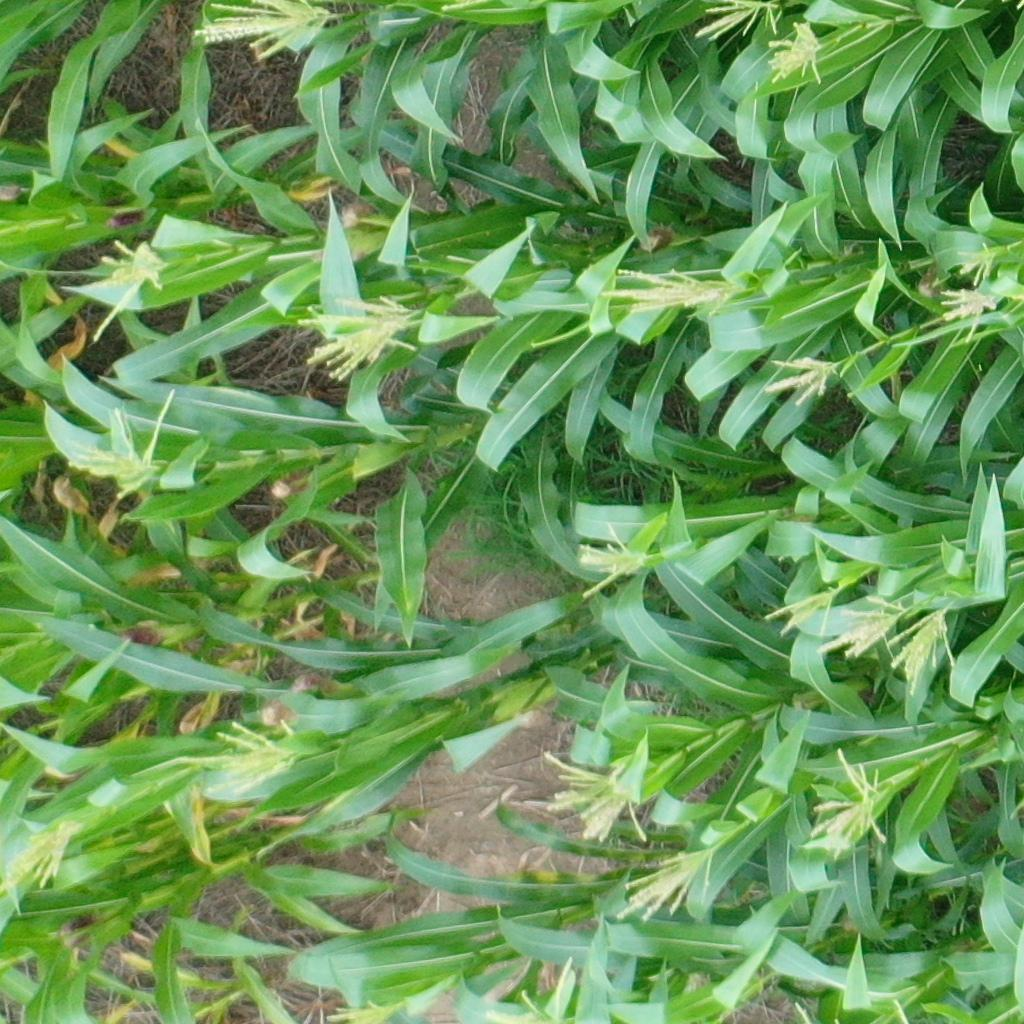Tassel: (69, 386, 183, 497), (292, 295, 433, 384), (541, 743, 653, 846), (807, 745, 893, 865), (179, 714, 304, 792), (76, 241, 157, 351), (616, 844, 717, 928), (594, 264, 751, 317), (191, 4, 333, 56), (888, 597, 958, 698), (569, 516, 646, 605), (487, 953, 579, 1024), (2, 814, 71, 904), (830, 590, 909, 663), (763, 578, 833, 649), (766, 19, 830, 88), (764, 354, 842, 407), (941, 282, 1001, 348), (694, 1, 784, 41), (328, 998, 411, 1024), (954, 235, 997, 283)
